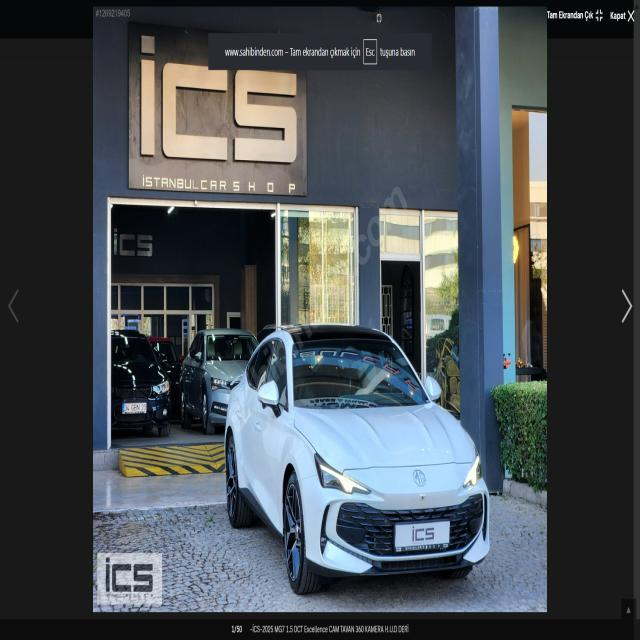mg: (406, 460, 433, 492)
